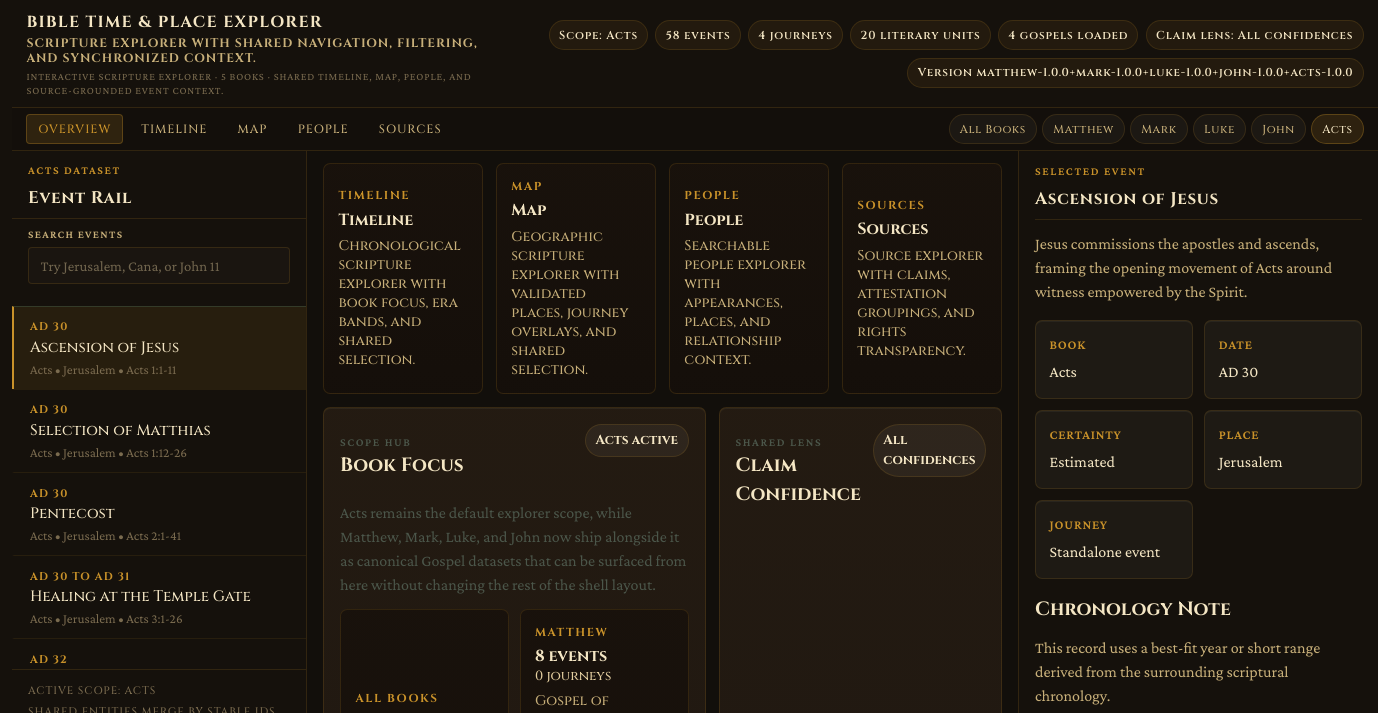
Scenario: App › supports people search and cross-record navigation from biographical detail
Click the tab "People" at (323, 129), box [286,114,361,144]
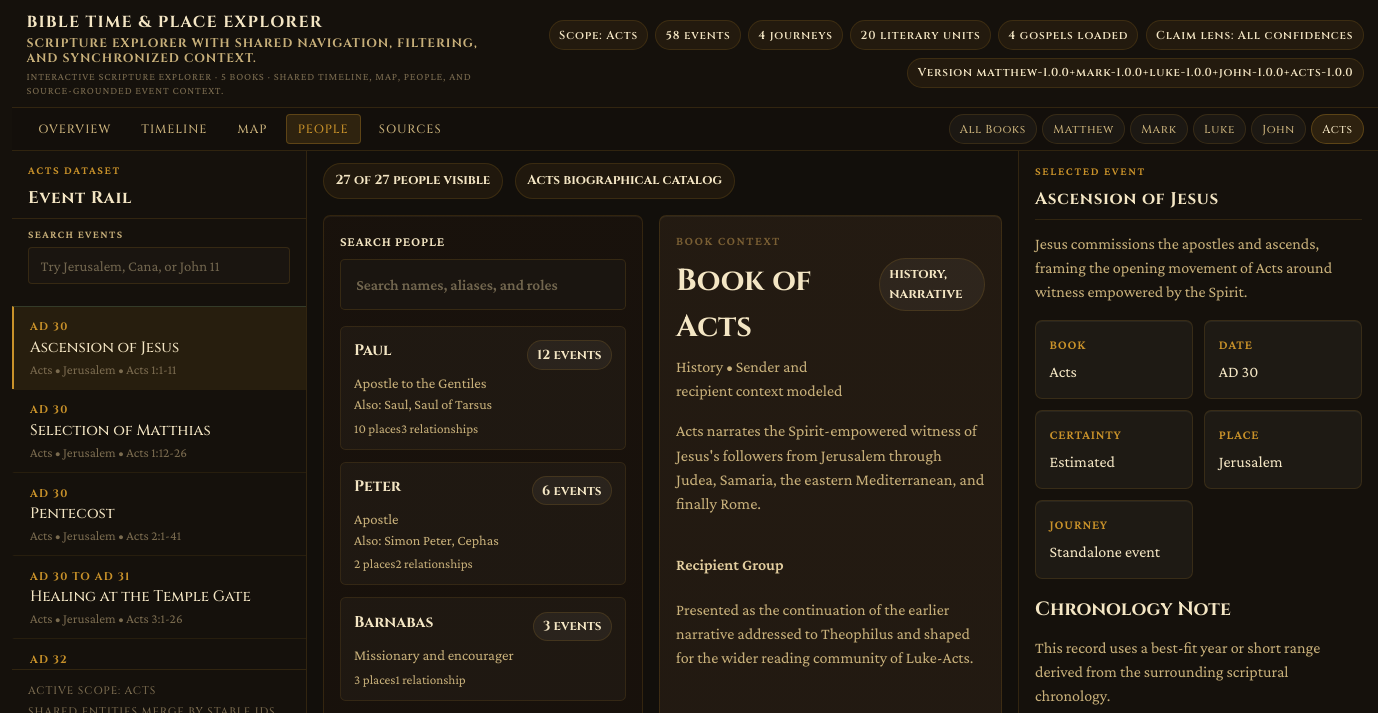
Type "Cornelius" into the search field labelled "Search people" at (483, 284), box [340,259,626,310]
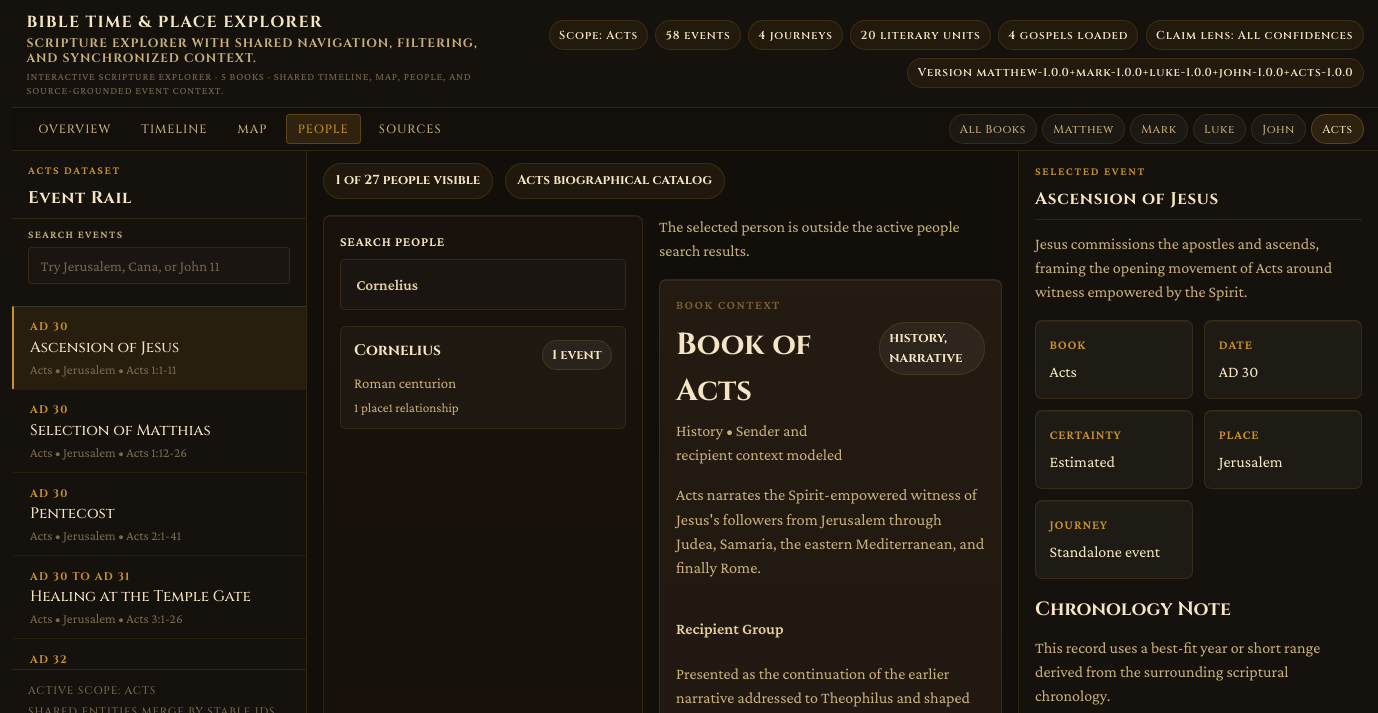
Click the button "Cornelius 1 event Roman centurion 1 place1 relationship" at (398, 351), box [340,326,626,429]
(page scrolled)
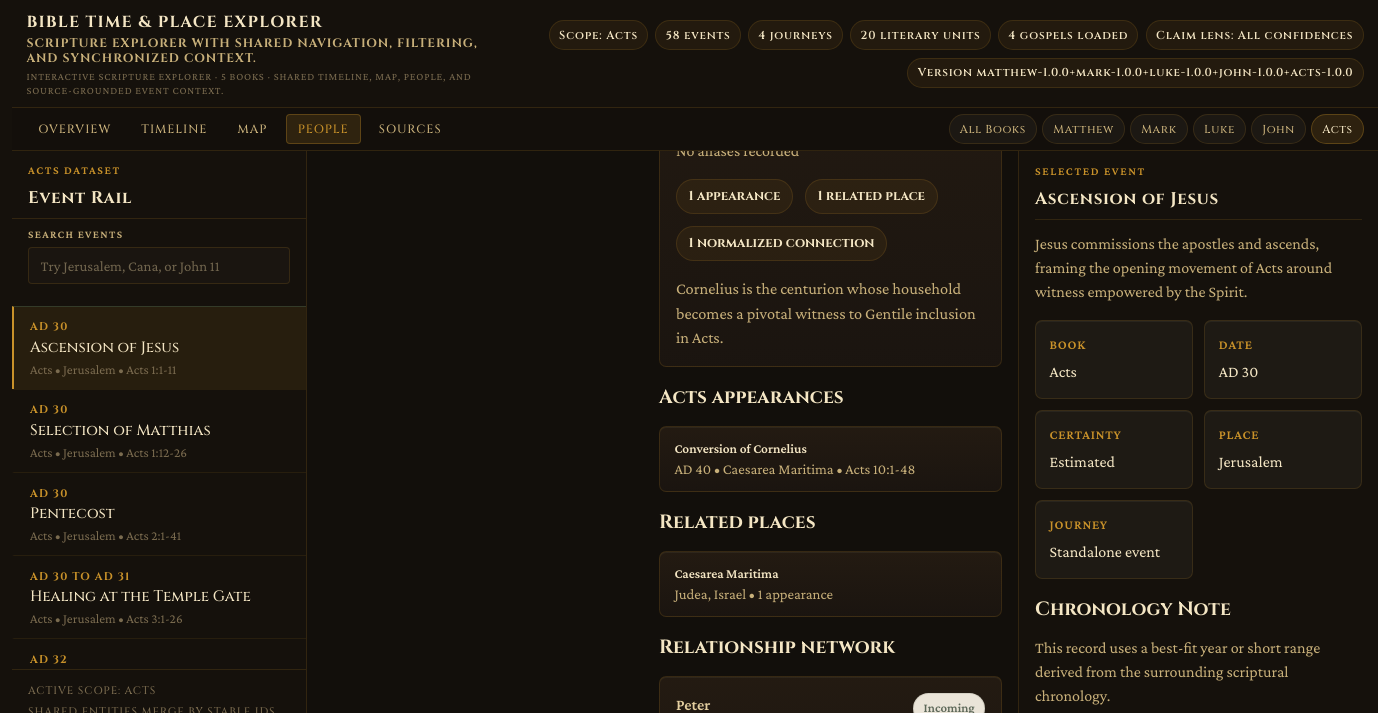
Click the button "Conversion of Cornelius" at (830, 459), box [659,426,1002,492]
(page scrolled)
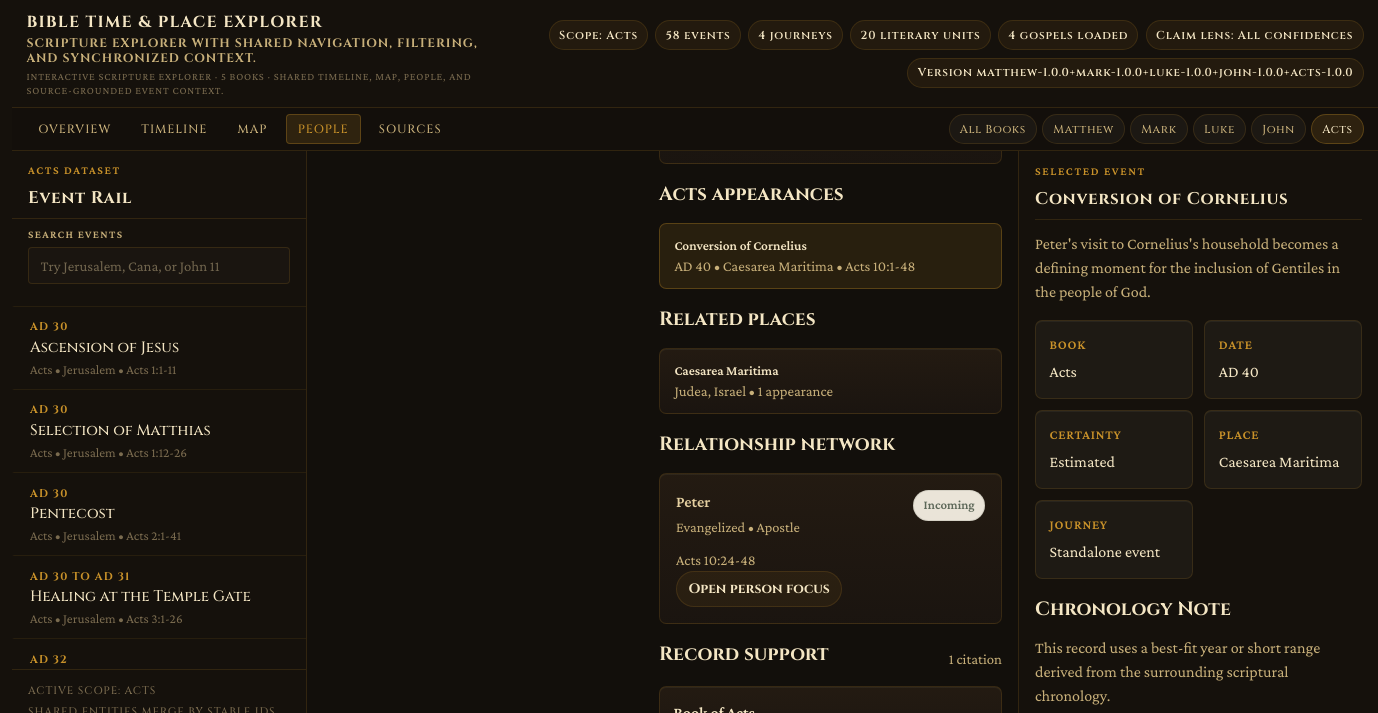
Expected: the heading "Conversion of Cornelius" is shown, [1035,187,1288,210]
Click the button "Open person focus" at (759, 589), box [676,571,842,607]
(page scrolled)
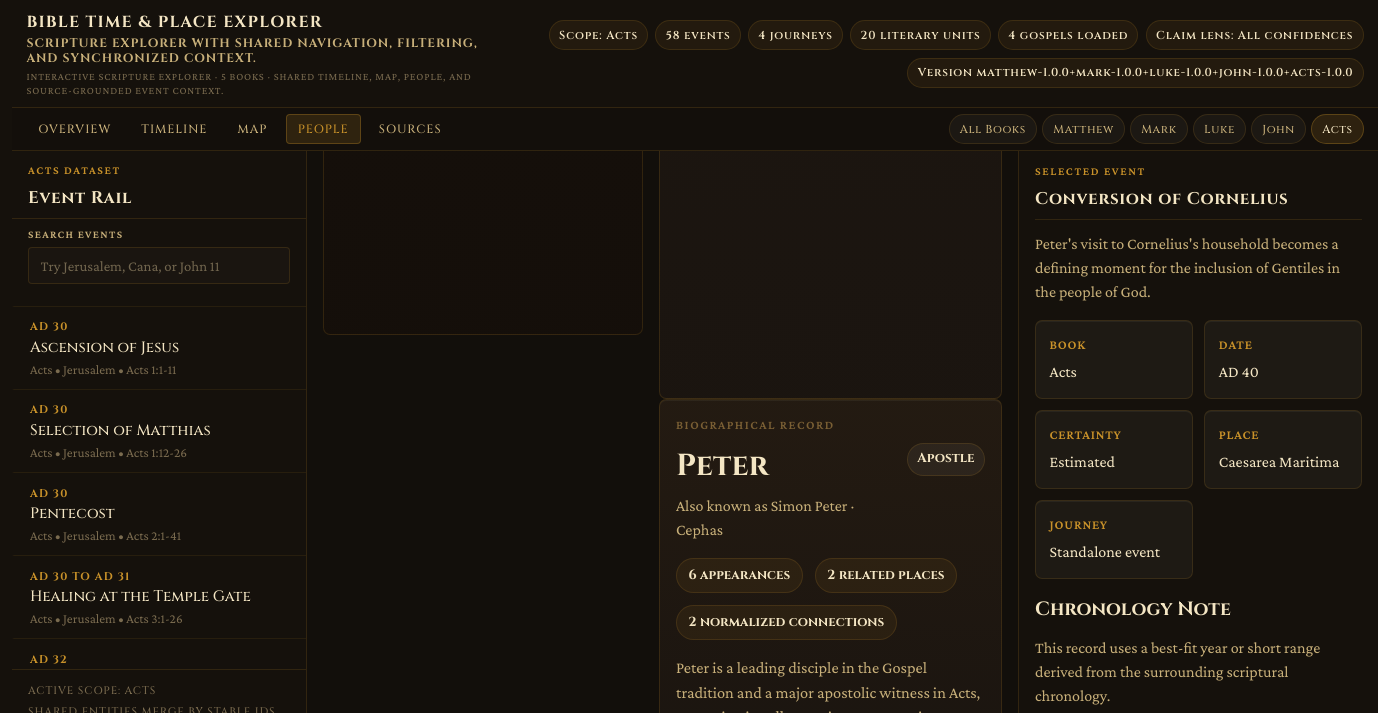
Expected: the text "Apostle" is shown, [907,443,985,476]
Expected: the heading "Peter" is shown, [676,445,768,486]
